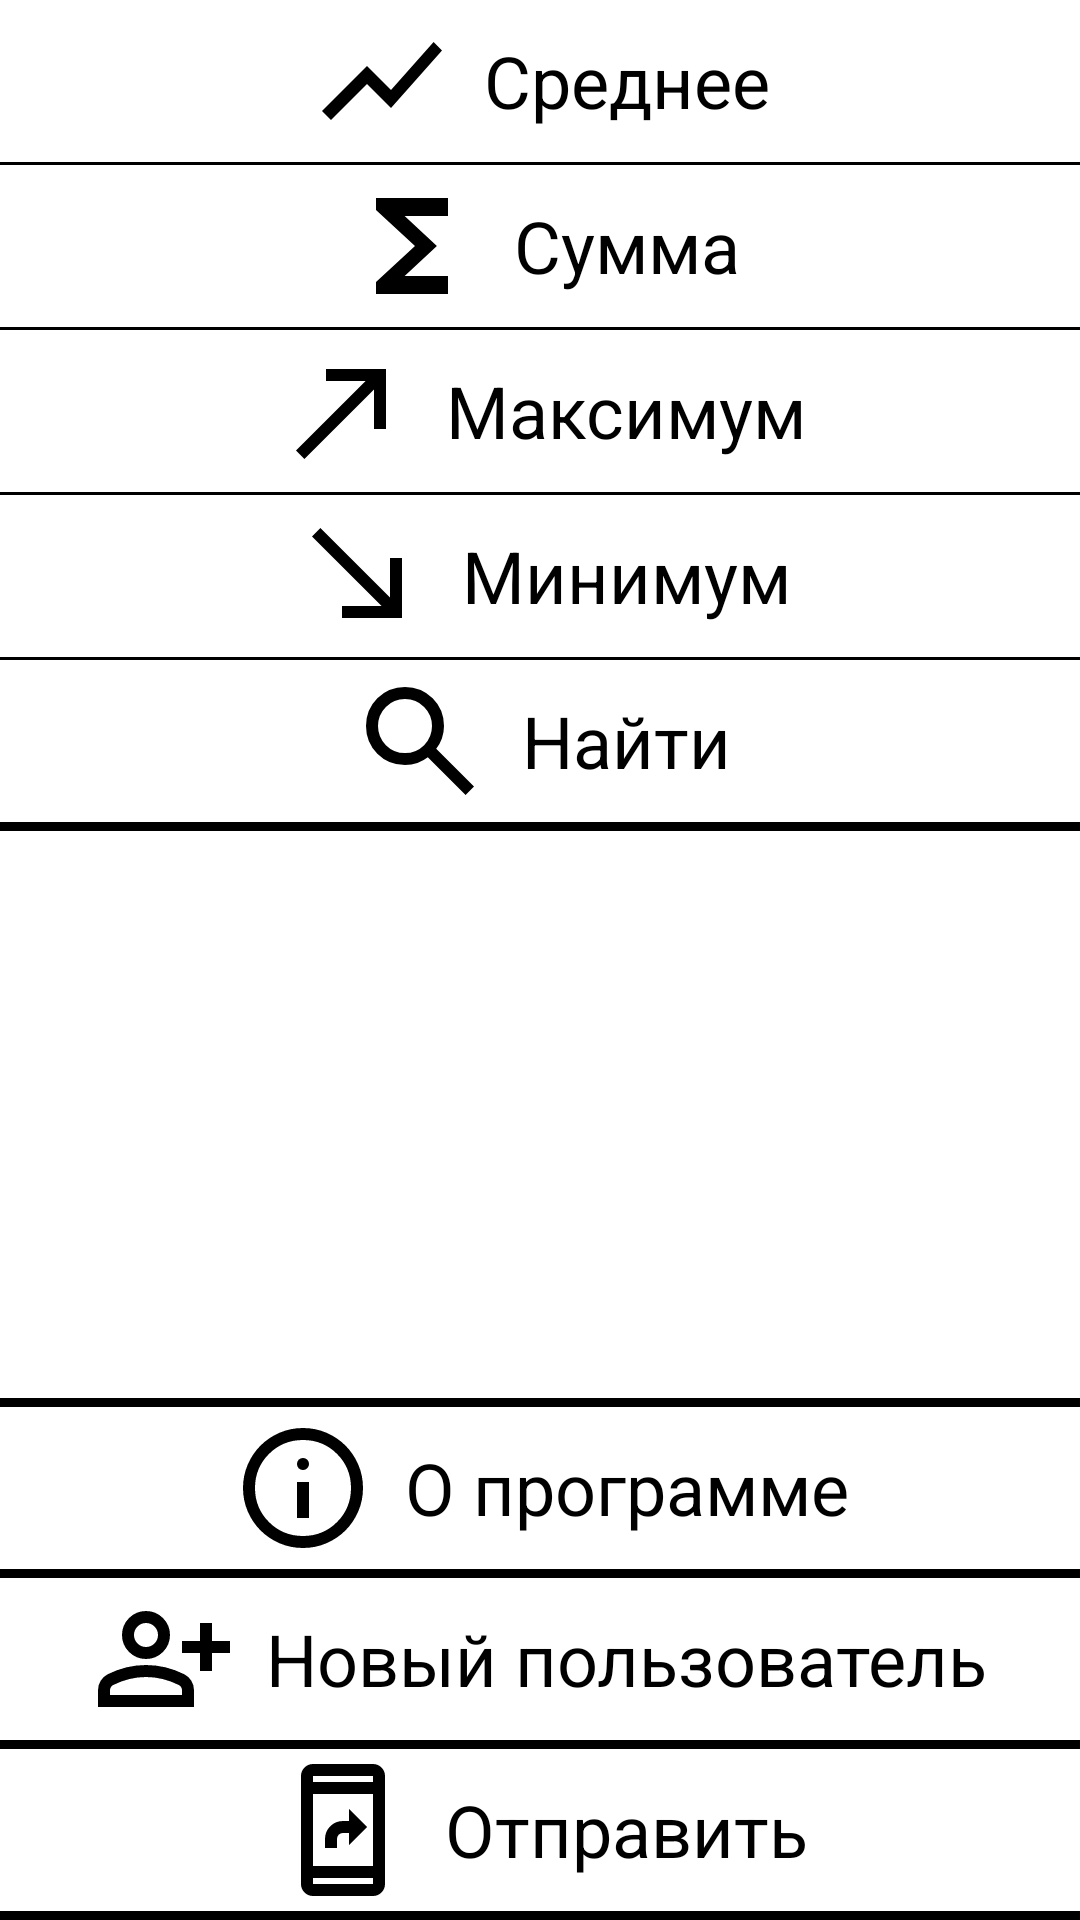

Screen size 1080 x 1920. Icon name, then its center in pixels as [x,y]:
find: [420,741]
info: [303,1488]
max: [341,414]
share: [343,1830]
sum: [412,246]
